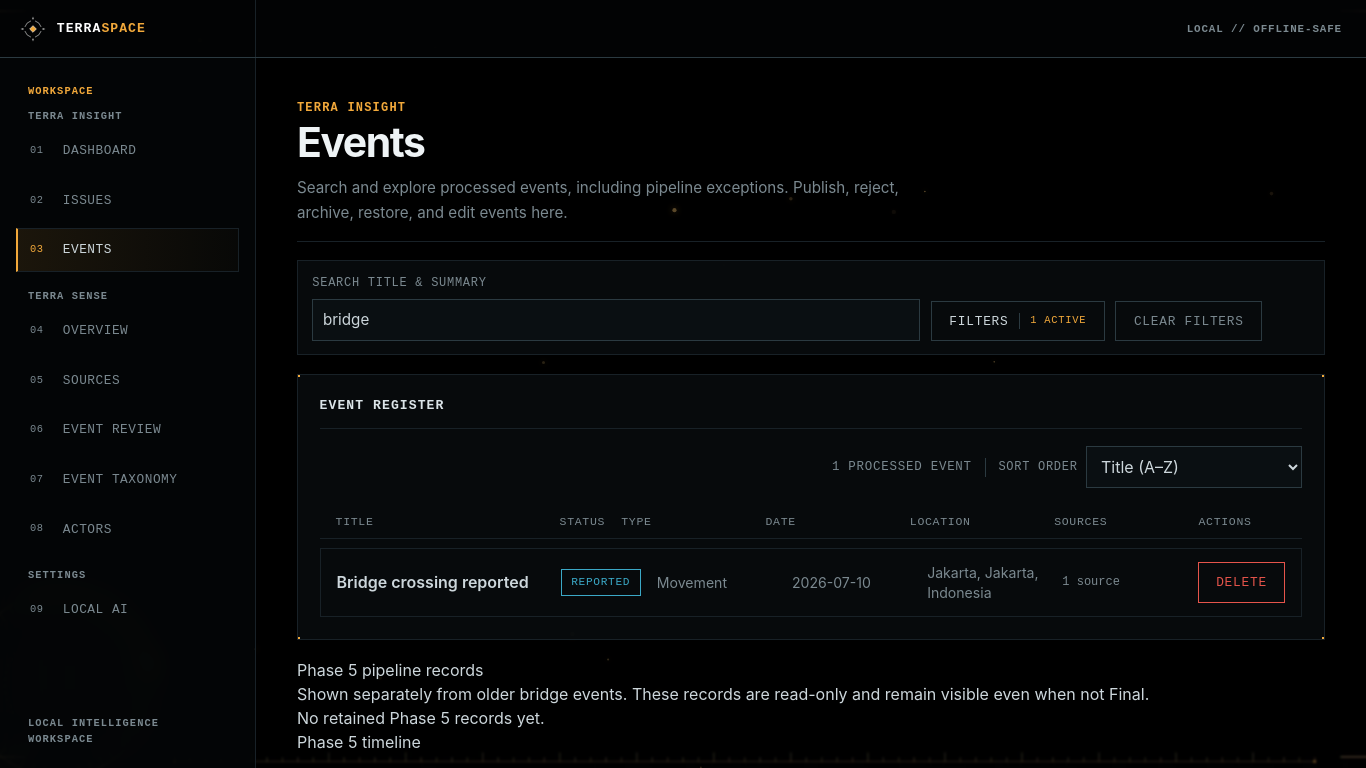
Test: EventsPage › opens a selected event with its full facts and a linked source reference
Click the button "Bridge crossing reported" at (441, 583), box 337,572 -> 545,593
(page scrolled)
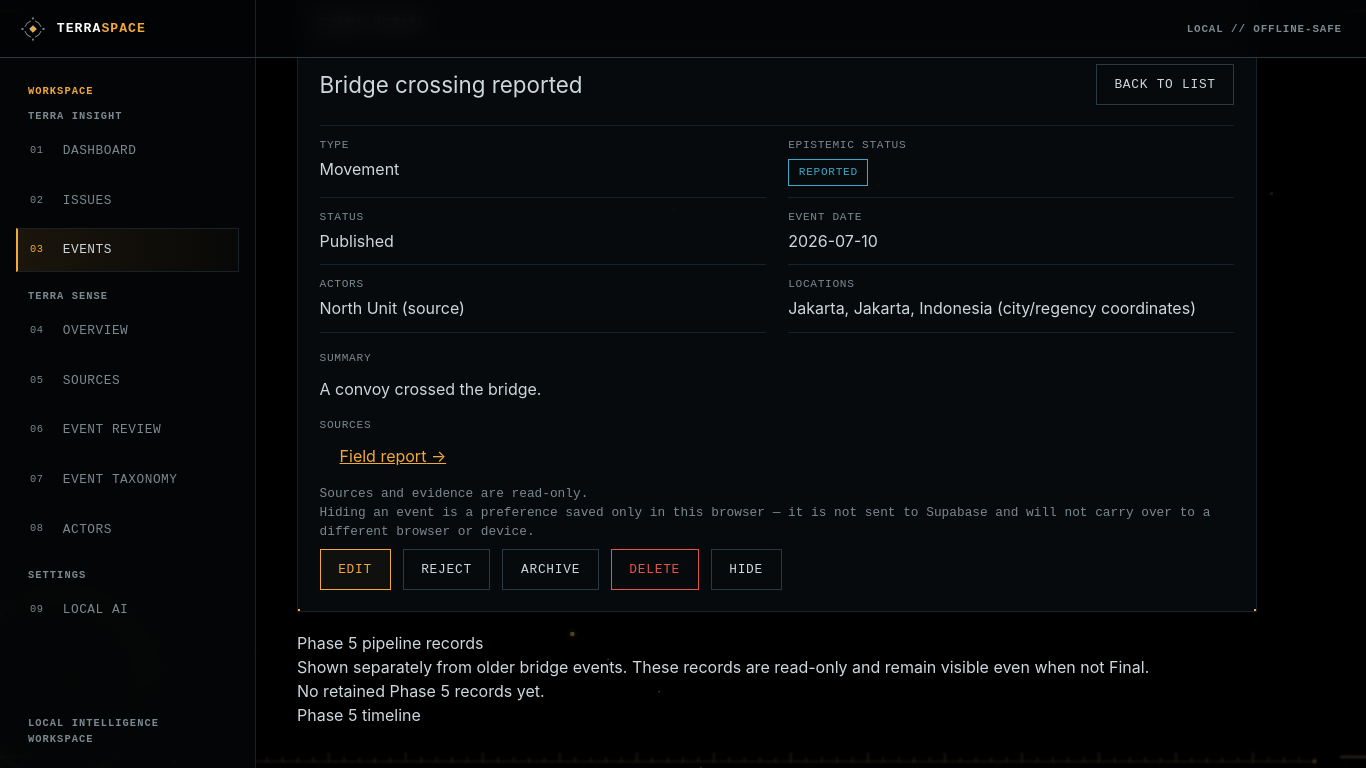
expect the text "A convoy crossed the bridge." is shown: met, box 320,379 -> 542,399
expect the text "Event date" is shown: met, box 788,211 -> 862,223
expect the text "North Unit (source)" is shown: met, box 320,298 -> 465,318
